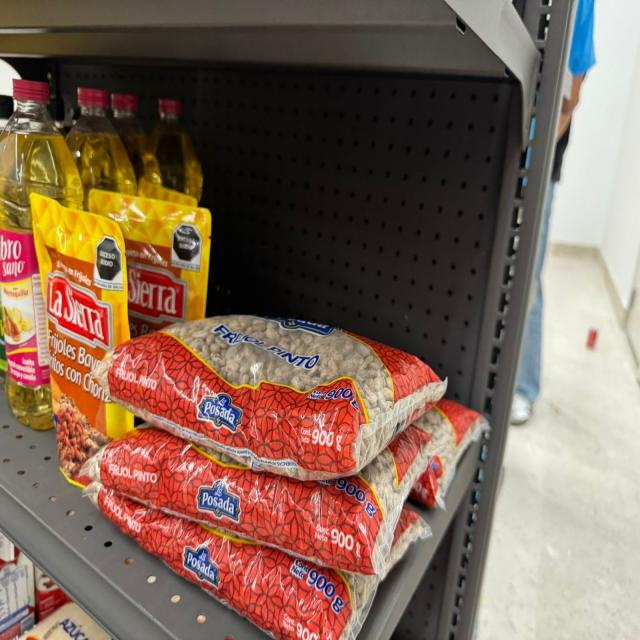Aceite Sabrosano 850ml: (0, 79, 82, 429), (67, 88, 136, 210), (150, 99, 202, 204), (110, 94, 144, 181)
Azucar Estandar La Posada 1 kg: (19, 602, 111, 639)
Frijol La Sierra Chorizo 430 bolsa: (30, 193, 134, 486), (89, 189, 211, 335), (138, 179, 197, 206)
Frijol Pinto La Posada 900gr: (95, 316, 446, 480), (99, 427, 420, 574), (410, 399, 488, 508)
